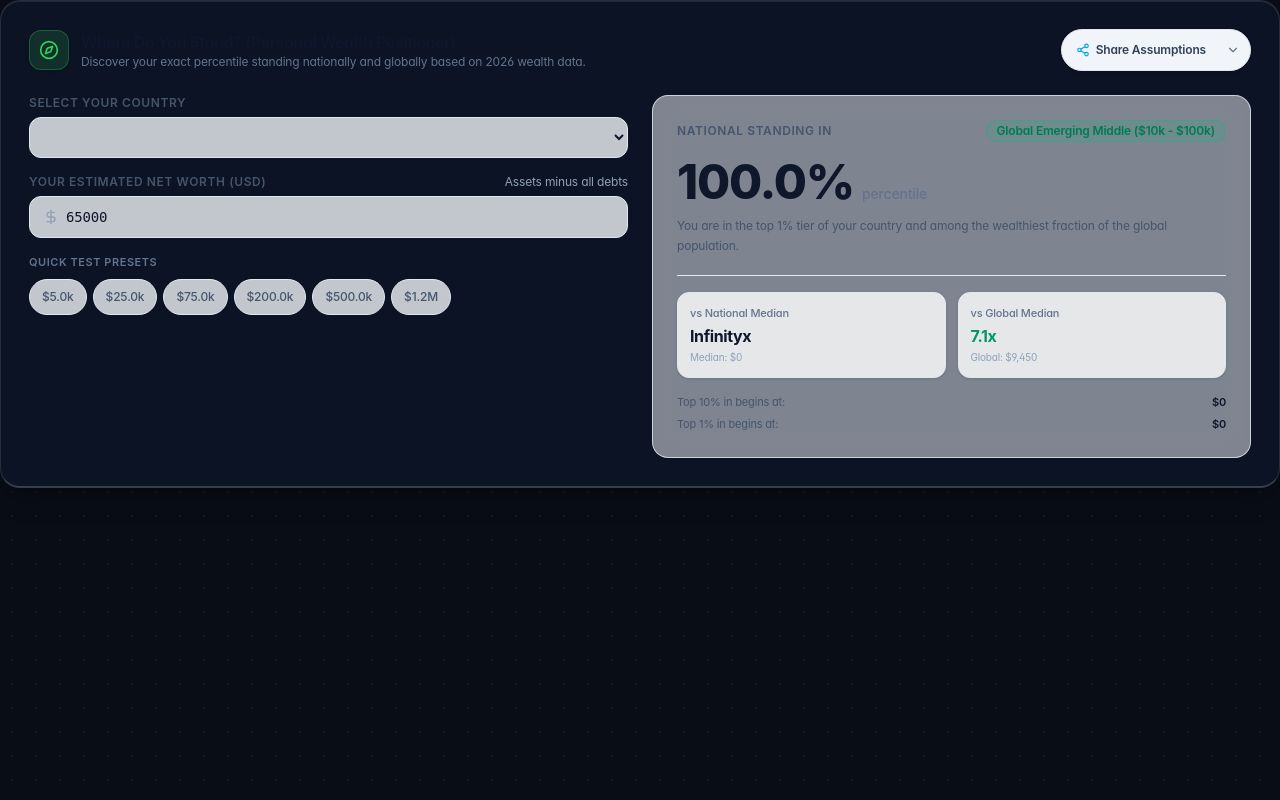
WealthCalculator Component › updates net worth value when preset chip is clicked
Click the button "$200.0k".
click(270, 296)  # box [234,278,306,314]
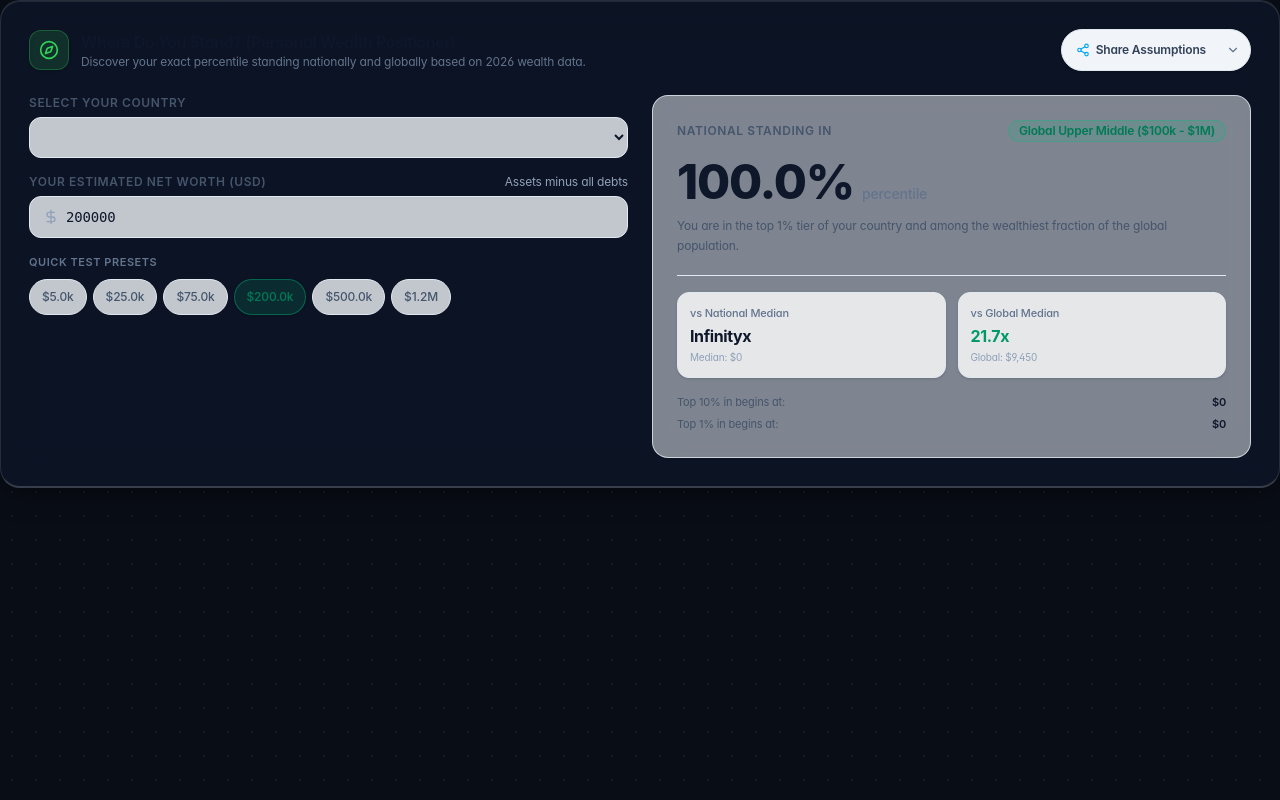
Check: the number field labelled "Your Estimated Net Worth (USD)" holds "200000", box [29,196,628,238]
